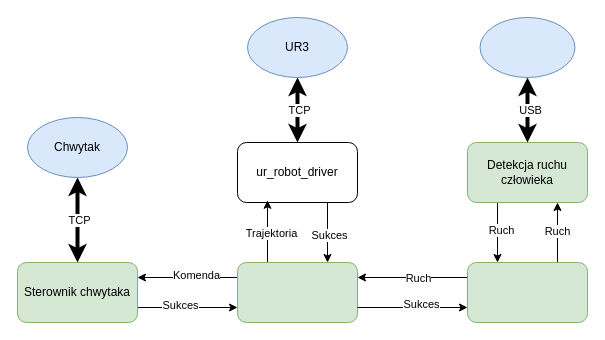
The diagram is 605 pixels wide and 340 high, and some of its shapes have lost their labels. Each missing label, with the box of its shape:
Kamera: (479, 16, 575, 78)
Realizacja ruchów: (236, 262, 358, 322)
Silnik szachowy: (466, 262, 588, 322)
